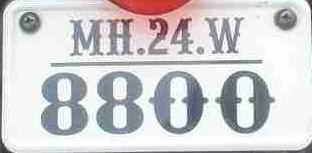character: (216, 69, 276, 135), (148, 70, 208, 135), (39, 69, 89, 136), (95, 70, 143, 134), (203, 14, 245, 54), (68, 16, 105, 57), (104, 17, 135, 57), (169, 16, 195, 55), (146, 16, 170, 55)
